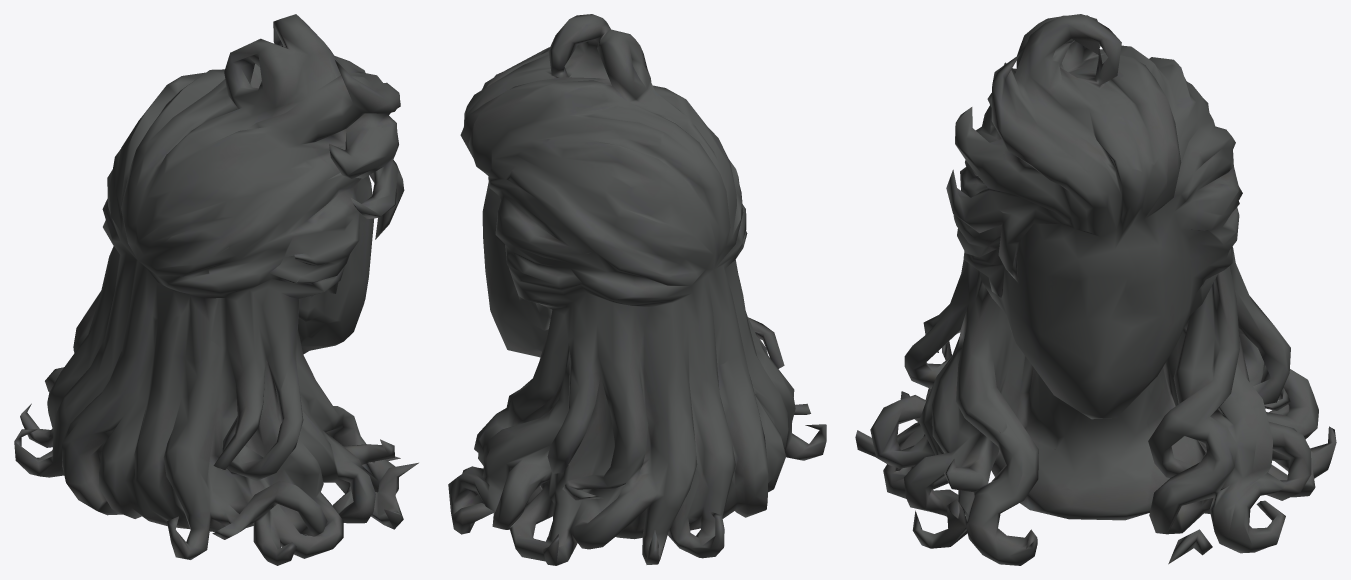
The model's file is tripo_mullet_raw.glb.
The picture shows the model from 3 angles, left to right: view 1: azimuth 30°, elevation 25°; view 2: azimuth 150°, elevation 25°; view 3: azimuth 270°, elevation 25°; orthographic projection. The views are drawn at different scales.
Parts seen in each view (by area): view 1: tripo_node_3d4ed81d-1d2d-48ae-9c41-b14a19ded9cc; view 2: tripo_node_3d4ed81d-1d2d-48ae-9c41-b14a19ded9cc; view 3: tripo_node_3d4ed81d-1d2d-48ae-9c41-b14a19ded9cc.
Boxes of the visible parts, x1=… form: tripo_node_3d4ed81d-1d2d-48ae-9c41-b14a19ded9cc: x1=14, y1=14, x2=418, y2=565; tripo_node_3d4ed81d-1d2d-48ae-9c41-b14a19ded9cc: x1=448, y1=14, x2=826, y2=565; tripo_node_3d4ed81d-1d2d-48ae-9c41-b14a19ded9cc: x1=855, y1=14, x2=1336, y2=565.
Size of the model in its own units: 0.7072 by 1 by 0.8455.
Materials: 1 (1 with a texture image).
